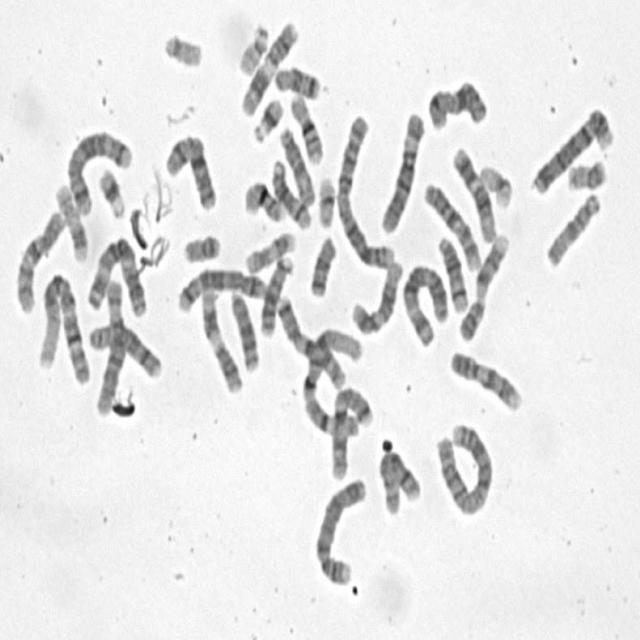A1: (298, 321, 365, 438), (35, 266, 92, 386)
A2: (333, 109, 397, 270), (432, 414, 495, 519)
A3: (82, 229, 150, 321), (399, 258, 451, 348)
B4: (528, 100, 615, 196), (311, 472, 369, 588)
B5: (64, 122, 136, 218), (173, 262, 274, 314)
C10: (12, 203, 68, 316), (420, 175, 484, 273)
C11: (238, 14, 301, 118), (198, 281, 245, 396)
C12: (449, 139, 498, 244), (348, 254, 406, 336)
C6: (377, 104, 427, 236), (91, 272, 127, 418)
C7: (274, 288, 347, 392), (327, 378, 375, 484)
C8: (85, 316, 165, 380), (375, 444, 422, 516)
C9: (456, 227, 512, 343), (445, 342, 524, 413)
D13: (257, 248, 296, 338), (226, 284, 261, 374)
D14: (269, 154, 314, 230), (434, 230, 470, 314)
D15: (542, 186, 604, 269), (277, 120, 317, 208)
E16: (286, 88, 326, 166), (240, 174, 286, 223)
E17: (52, 180, 90, 264), (242, 225, 298, 275)
E18: (306, 229, 339, 299), (271, 59, 322, 101)
F19: (476, 159, 514, 210), (315, 170, 337, 230)
F20: (564, 153, 608, 192), (180, 228, 222, 266)
G21: (248, 91, 286, 144), (95, 161, 128, 221)
G22: (235, 17, 270, 77), (160, 26, 205, 70)
X: (161, 126, 219, 213), (424, 73, 490, 132)
